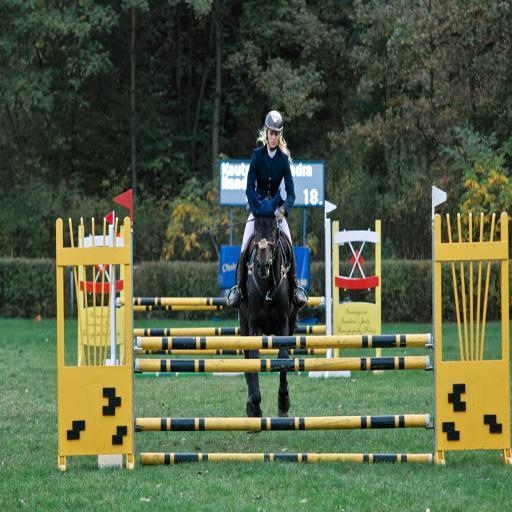horse: (236, 189, 298, 419)
